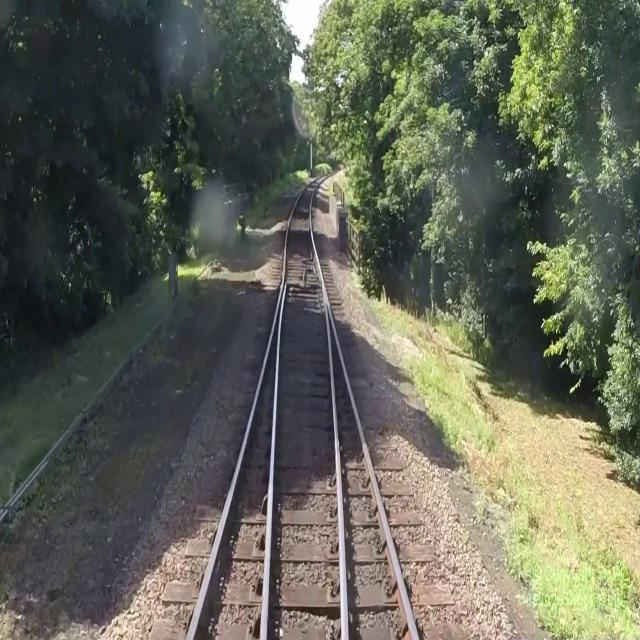rail-track: (192, 174, 342, 639), (326, 299, 414, 639), (311, 172, 336, 277)
